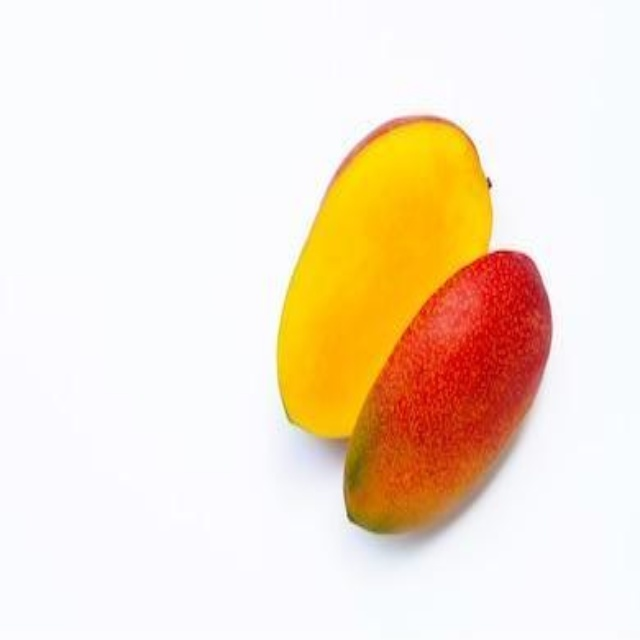mango: (274, 104, 556, 537)
